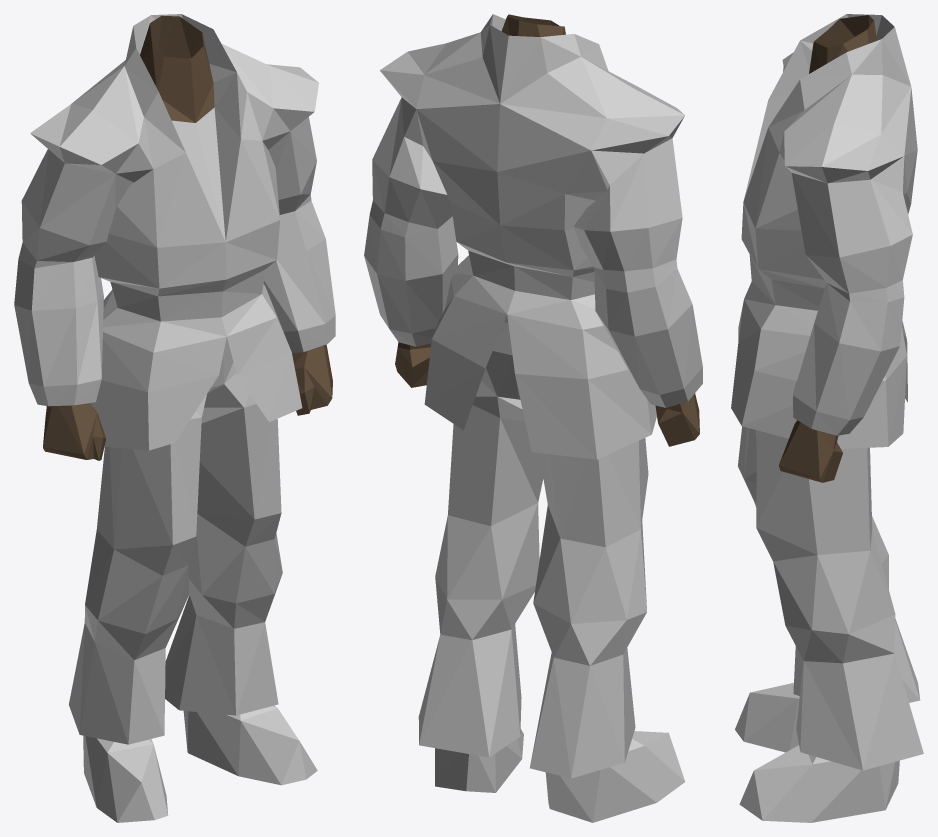
File: ARMOR_VLK_L.OBJ
3 renders of one model, left to right at view 1: azimuth 30°, elevation 25°; view 2: azimuth 150°, elevation 25°; view 3: azimuth 270°, elevation 25°, orthographic. The views are drawn at different scales.
Parts seen in each view (by area): view 1: ARMOR_VLK_L; view 2: ARMOR_VLK_L; view 3: ARMOR_VLK_L.
Part boxes in pixels (x1,y1,x2,y2): ARMOR_VLK_L: (14, 14, 335, 822); ARMOR_VLK_L: (364, 14, 702, 822); ARMOR_VLK_L: (731, 14, 923, 822).
Bounding box in the file's own units: 0.6986 × 1.69 × 0.3904.
